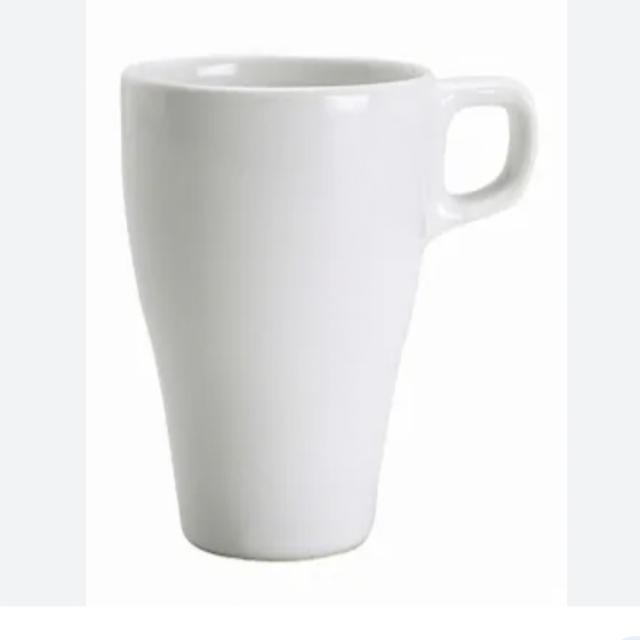recyclable: (110, 33, 541, 571)
